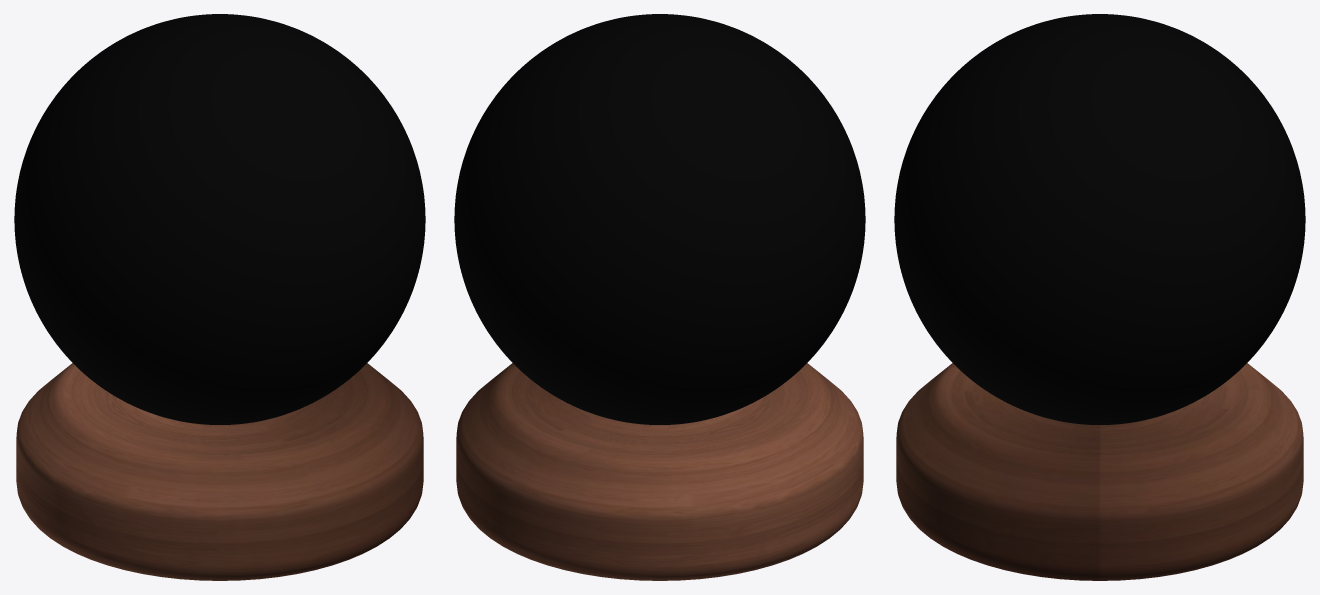
Rendered from Snow globe.fbx.
The picture shows the model from 3 angles, left to right: view 1: azimuth 30°, elevation 25°; view 2: azimuth 150°, elevation 25°; view 3: azimuth 270°, elevation 25°; orthographic projection.
Visible parts, largest first — view 1: Sphere_2, Base; view 2: Sphere_2, Base; view 3: Sphere_2, Base.
Part boxes in pixels (left/top/right/bottom): Sphere_2: left=14, top=14, right=425, bottom=424; Base: left=16, top=363, right=423, bottom=580; Sphere_2: left=454, top=14, right=865, bottom=424; Base: left=456, top=363, right=863, bottom=580; Sphere_2: left=894, top=14, right=1305, bottom=424; Base: left=896, top=363, right=1303, bottom=580.
Bounding box in the file's own units: 202 × 255 × 202.
4 materials, 1 textured.
